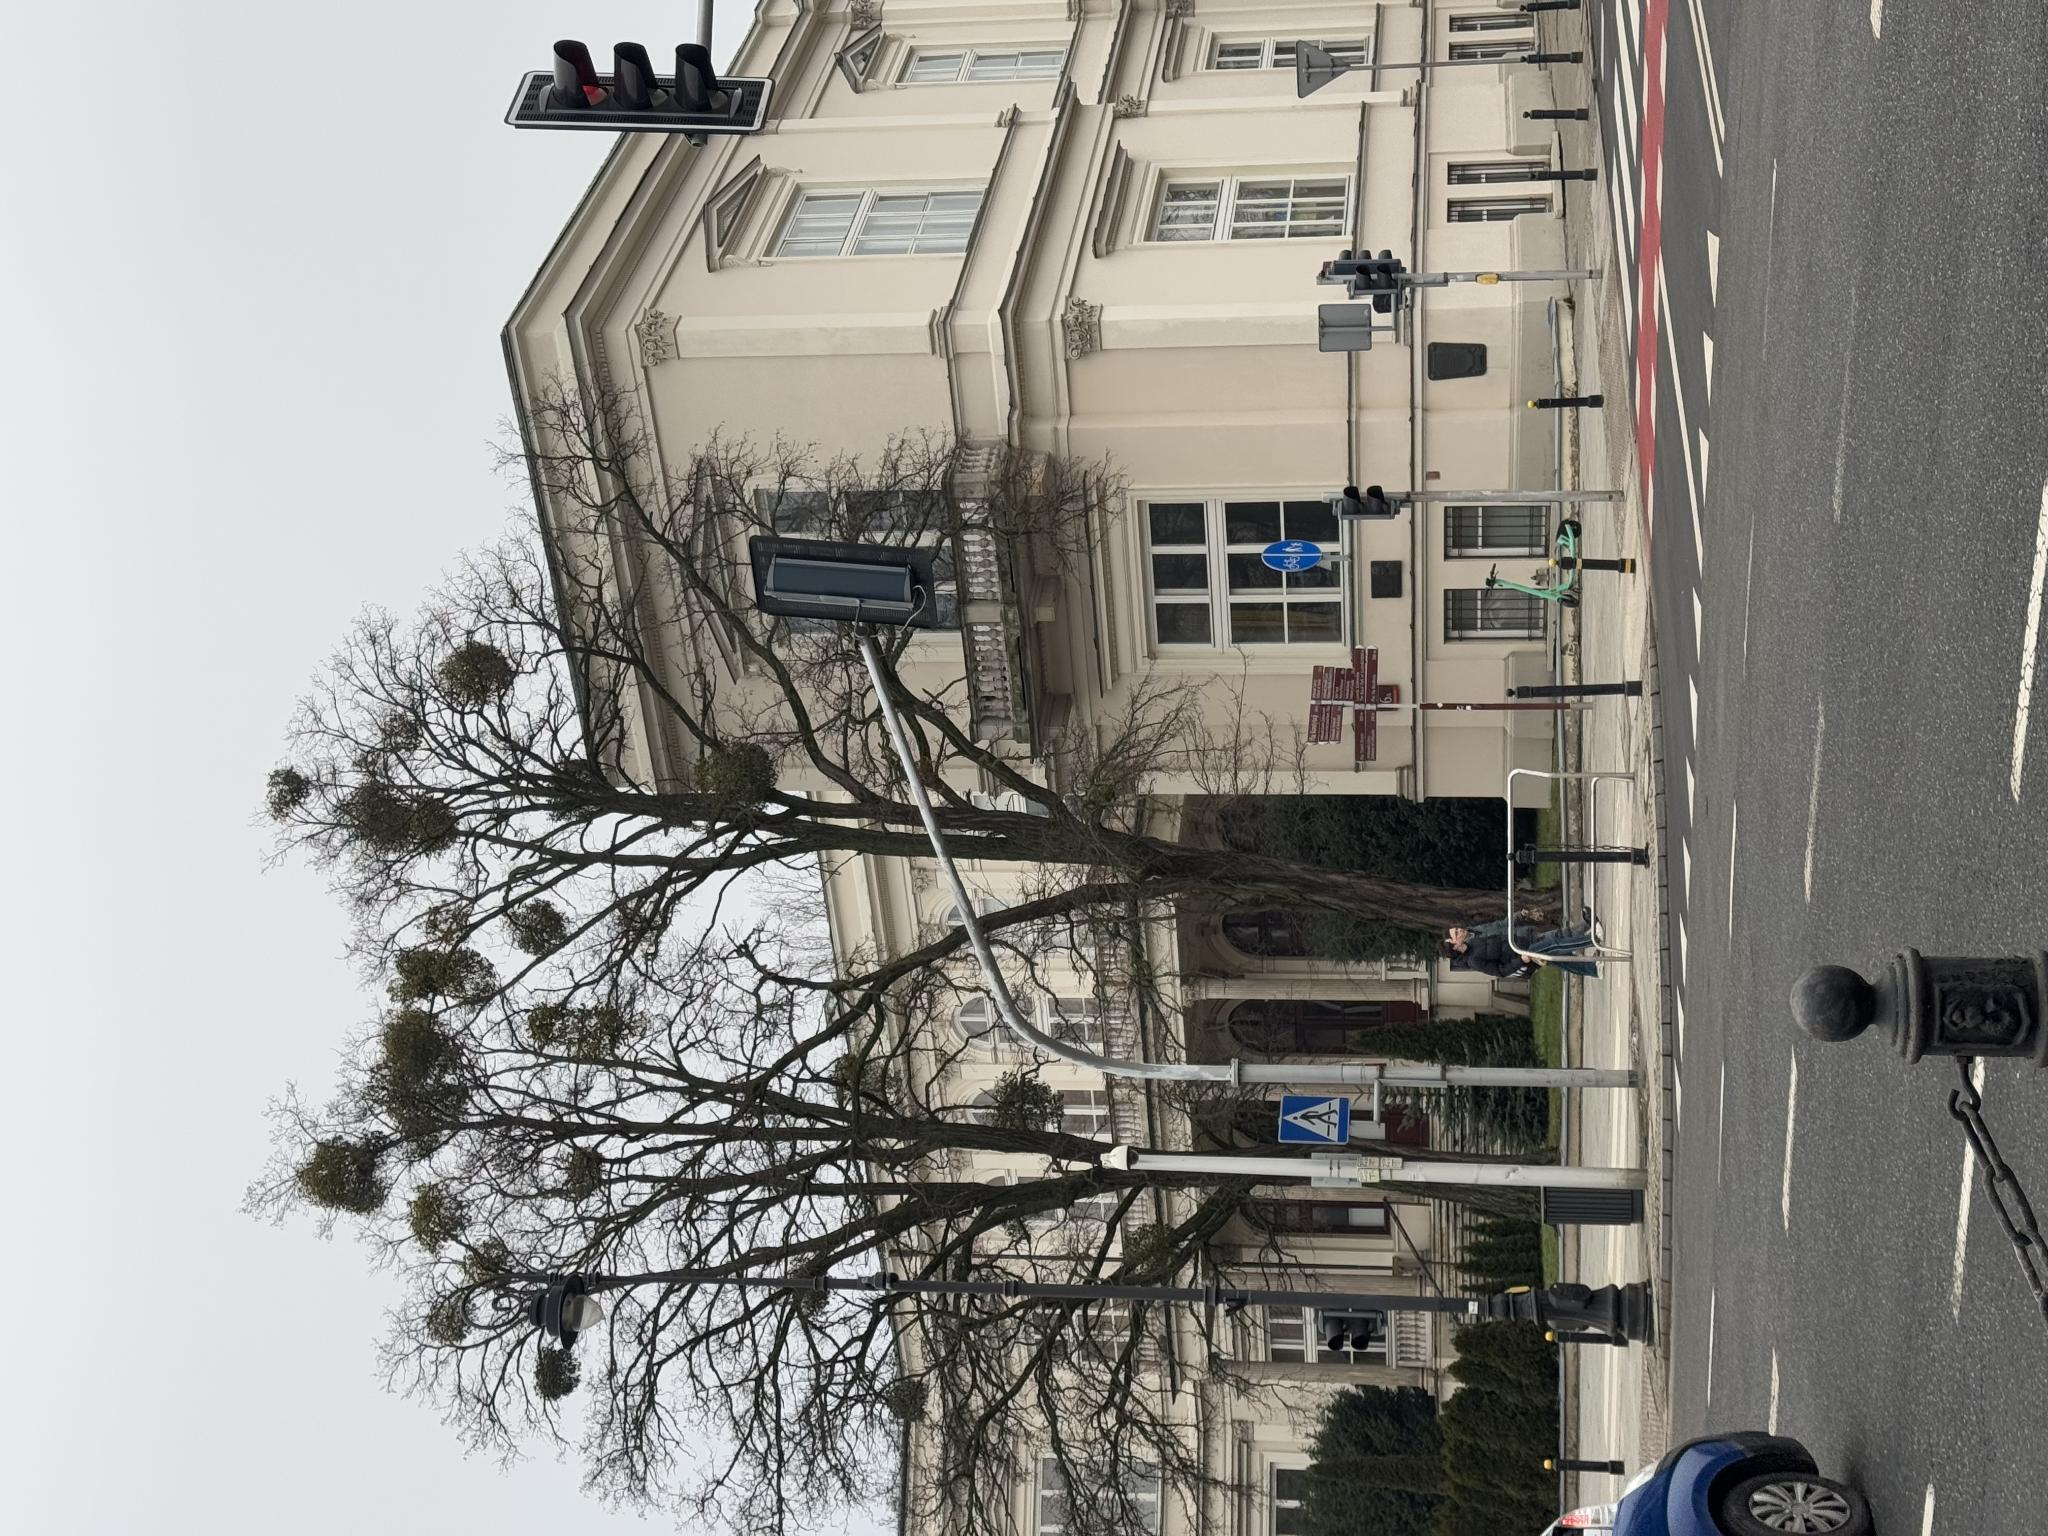information: (392, 1279, 440, 1350)
mandatory: (963, 1260, 997, 1321)
